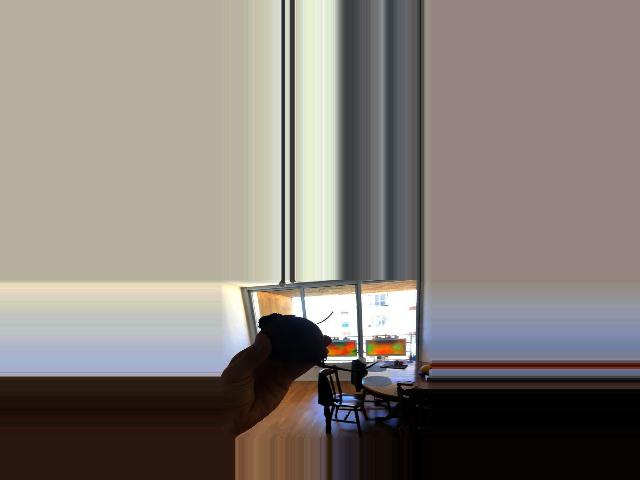beet: (259, 312, 377, 371)
